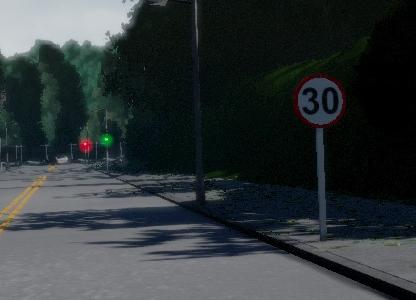Speed_30: (288, 71, 349, 131)
